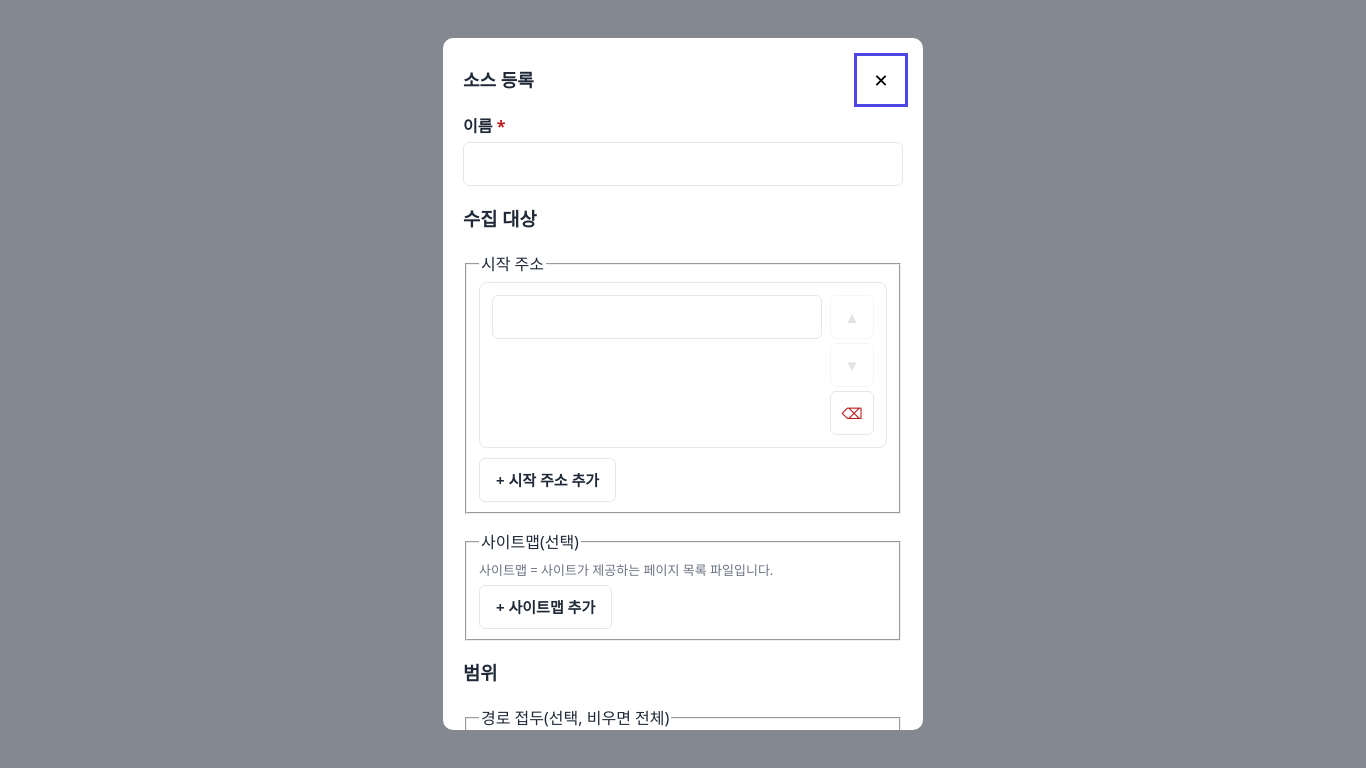
Test case: KbSourceEditModal › DUPLICATE_NAME 오류는 이름 필드 아래 인라인 오류로 표시된다
In the field labelled "이름 *": [683, 164] box [463,142,903,186], type "인사규정 게시판"
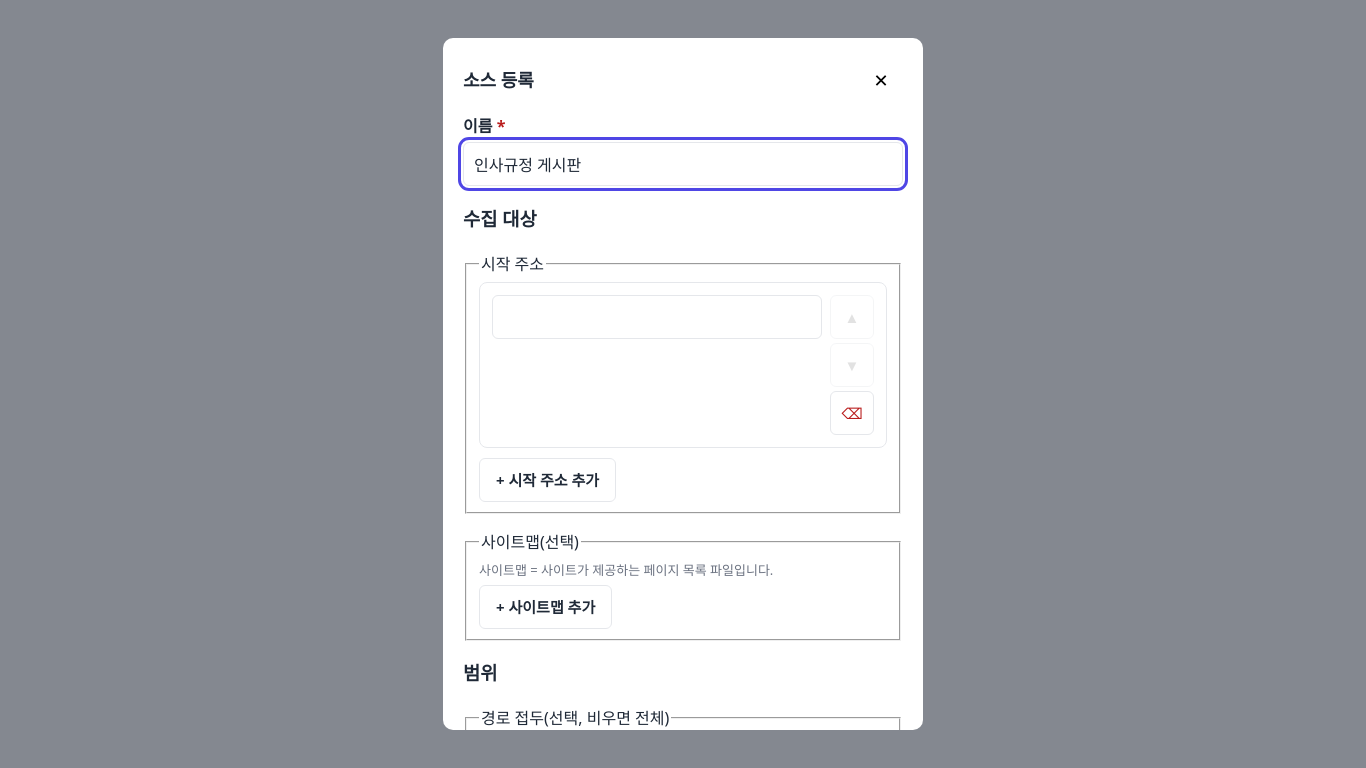
In the field named "번째 시작 주소": [657, 316] box [492,294,822,338], type "https://intra.example.local/hr/"
(page scrolled)
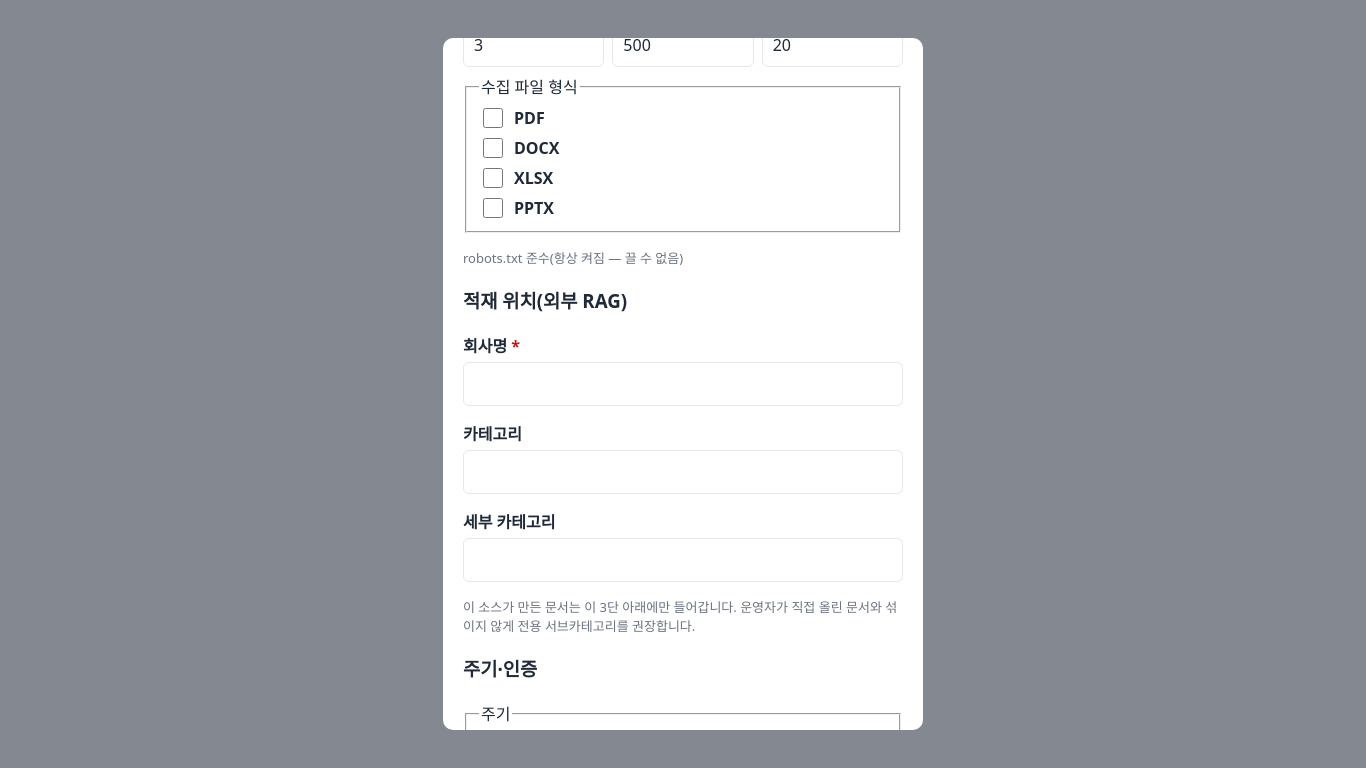
In the field labelled "회사명 *": [683, 384] box [463,362,903,406], type "예시공사"
In the field labelled "카테고리": [683, 472] box [463,450,903,494], type "인사"
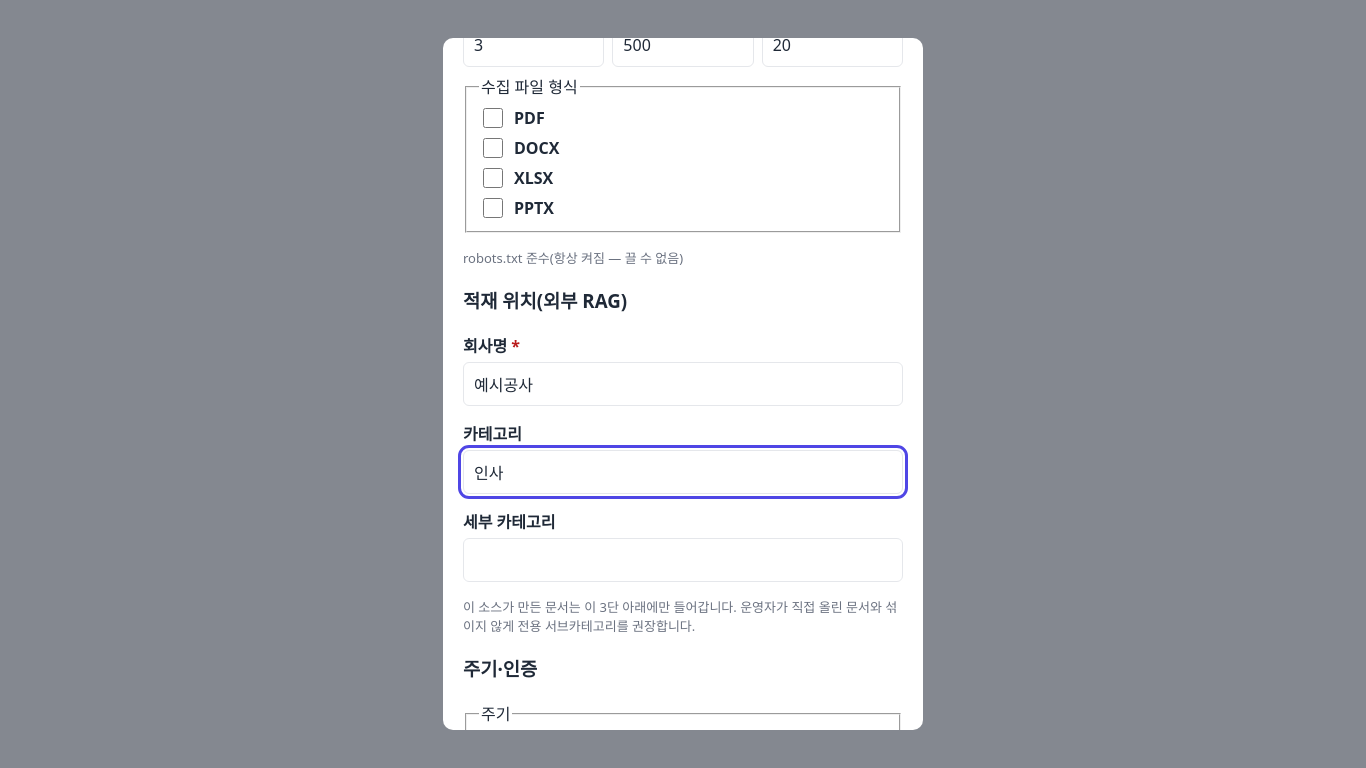
In the field labelled "세부 카테고리": [683, 560] box [463,538,903,582], type "크롤_인사규정"
(page scrolled)
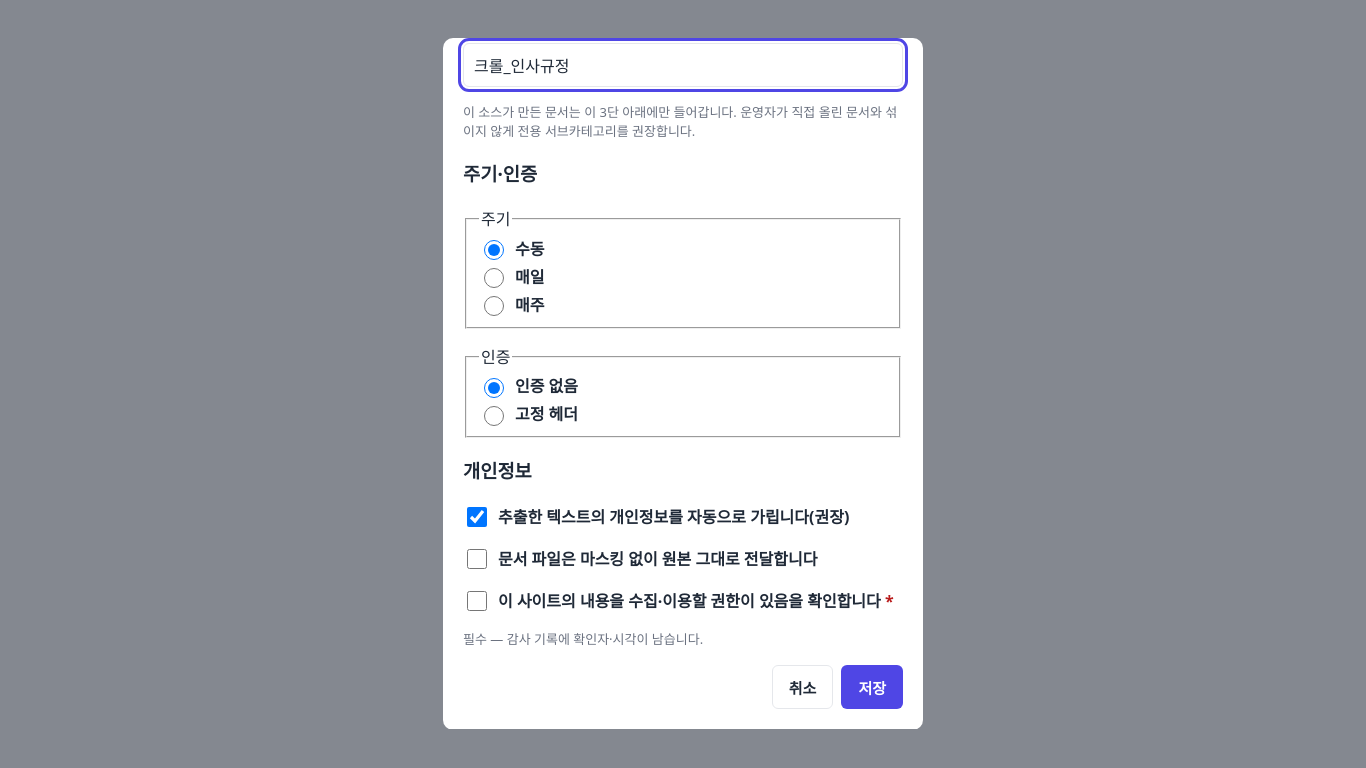
Click the checkbox labelled "이 사이트의 내용을 수집·이용할 권한이 있음을 확인합니다 *": [477, 601] box [467,591,487,611]
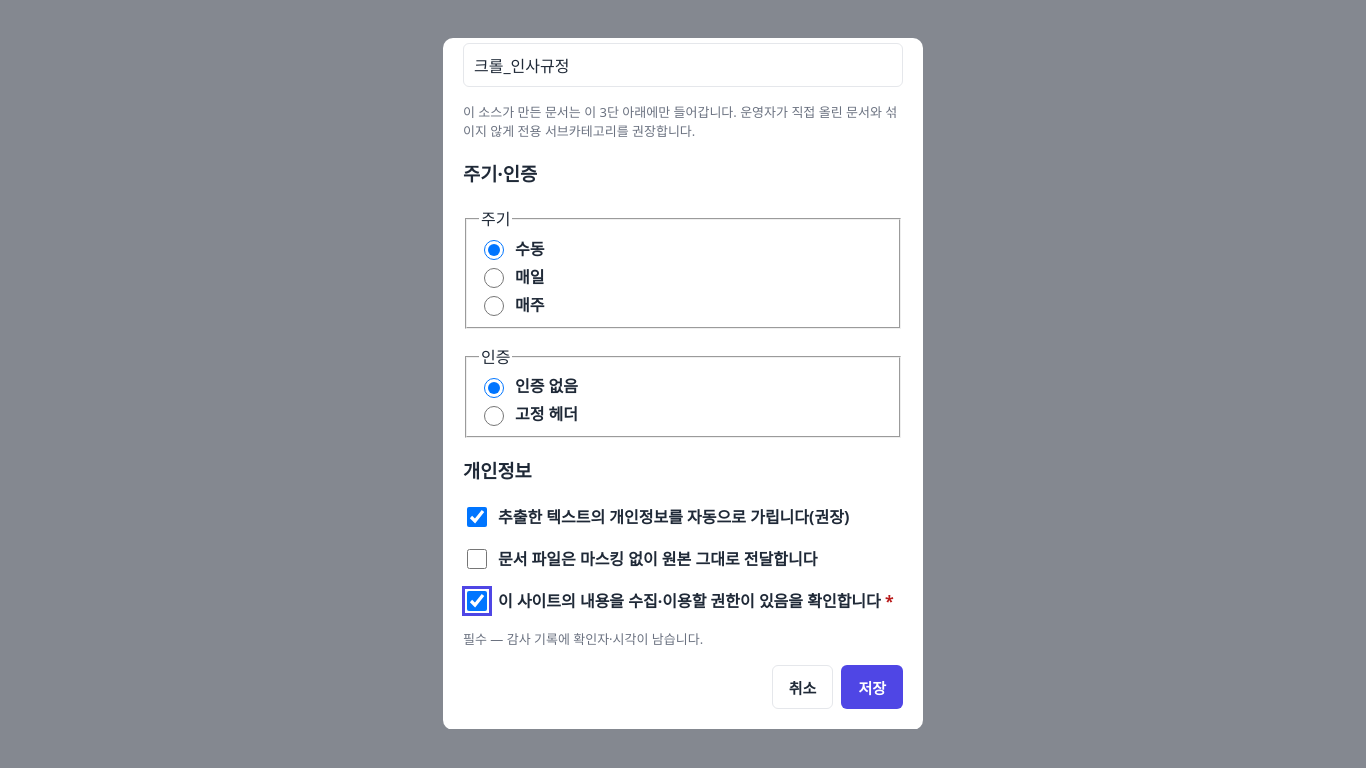
Click the button "저장": [872, 687] box [841,665,903,709]
(page scrolled)
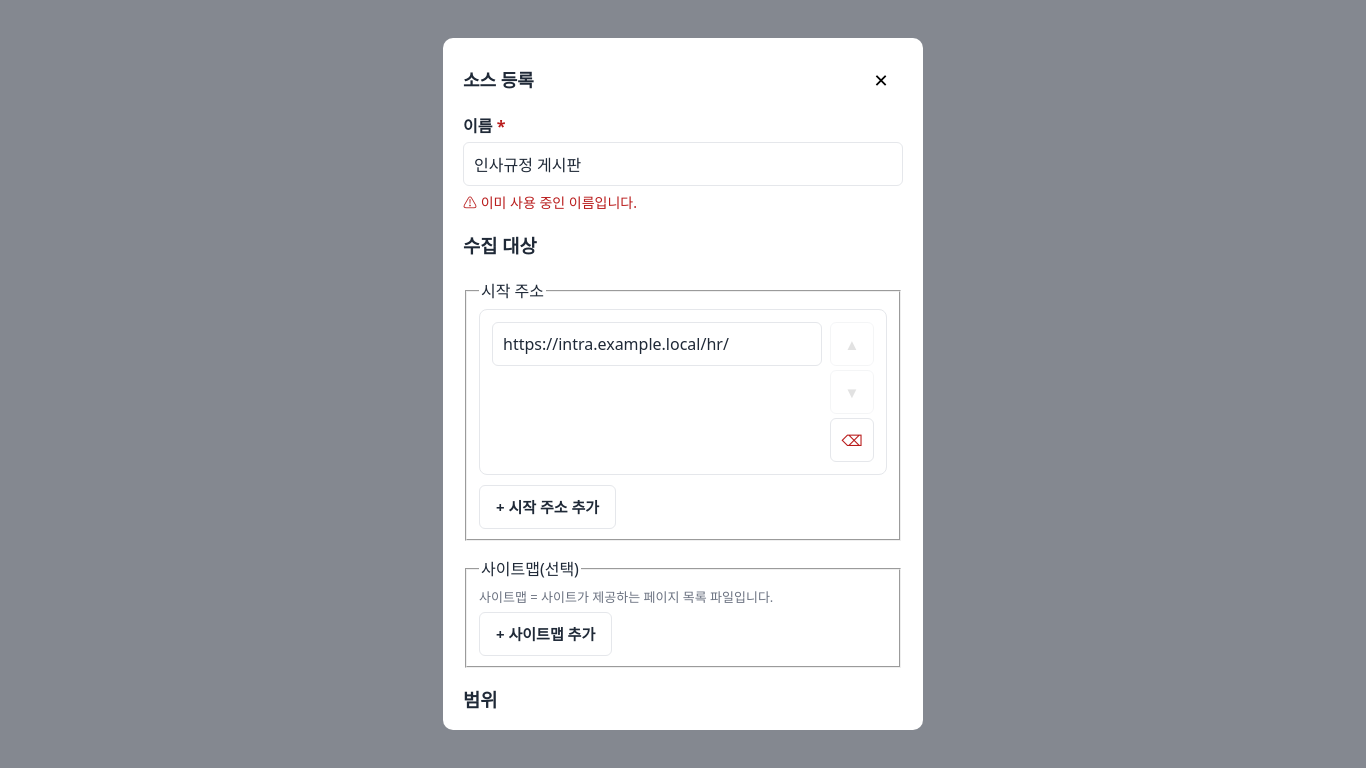
Now the text "이미 사용 중인 이름입니다." is shown, box [481,193,637,212]
